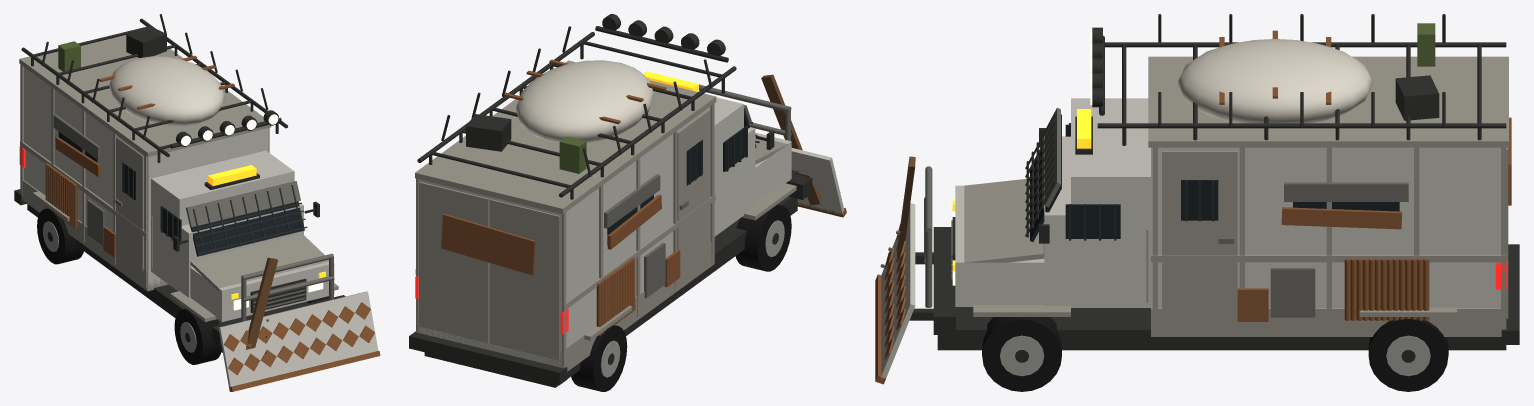
The model's file is furgoneta-de-rescate.glb.
The picture shows the model from 3 angles, left to right: view 1: azimuth 30°, elevation 25°; view 2: azimuth 150°, elevation 25°; view 3: azimuth 270°, elevation 25°; orthographic projection. The views are drawn at different scales.
Parts seen in each view (by area): view 1: caja_trasera, caja_techo, pala_chapa, carga_lona, cabina_techo, capo_inclinado, cabina, capo, cristal_parabrisas, puerta_lateral_der, plancha_parabrisas, baca (+28 smaller); view 2: caja_techo, caja_trasera, puerta_trasera_der, puerta_trasera_izq, carga_lona, puerta_lateral_der, plancha_trasera, baca, faldon_caja, parachoques_trasero, cabina, chasis (+31 smaller); view 3: caja_trasera, caja_techo, carga_lona, puerta_lateral_izq, cabina, chasis, cabina_techo, faldon_caja, capo_inclinado, capo, rueda_del_izq, rueda_tras_izq (+31 smaller).
Part boxes in pixels (<box>): caja_trasera: <box>24,67,268,286</box>; caja_techo: <box>19,35,271,157</box>; pala_chapa: <box>218,291,378,389</box>; carga_lona: <box>109,56,224,126</box>; cabina_techo: <box>151,150,294,225</box>; capo_inclinado: <box>190,234,328,290</box>; cabina: <box>151,202,303,297</box>; capo: <box>190,261,334,321</box>; cristal_parabrisas: <box>190,201,304,256</box>; puerta_lateral_der: <box>116,137,143,270</box>; plancha_parabrisas: <box>186,181,300,227</box>; baca: <box>31,14,278,162</box>; caja_techo: <box>415,60,716,214</box>; caja_trasera: <box>418,107,710,367</box>; puerta_trasera_der: <box>489,199,559,360</box>; puerta_trasera_izq: <box>419,182,489,343</box>; carga_lona: <box>515,60,654,142</box>; puerta_lateral_der: <box>677,109,710,268</box>; plancha_trasera: <box>441,213,535,275</box>; baca: <box>429,26,724,199</box>; faldon_caja: <box>416,242,714,371</box>; parachoques_trasero: <box>409,331,567,384</box>; cabina: <box>714,127,755,236</box>; chasis: <box>424,196,797,387</box>; caja_trasera: <box>1151,147,1500,307</box>; caja_techo: <box>1148,56,1508,147</box>; carga_lona: <box>1177,39,1372,123</box>; puerta_lateral_izq: <box>1162,151,1237,312</box>; cabina: <box>1044,136,1150,307</box>; chasis: <box>937,307,1506,350</box>; cabina_techo: <box>1071,98,1150,217</box>; faldon_caja: <box>1151,308,1501,336</box>; capo_inclinado: <box>964,179,1044,262</box>; capo: <box>955,185,1044,306</box>; rueda_del_izq: <box>982,317,1061,391</box>; rueda_tras_izq: <box>1368,318,1448,391</box>.
Size of the model in its own units: 2.7 by 3.68 by 7.25.
